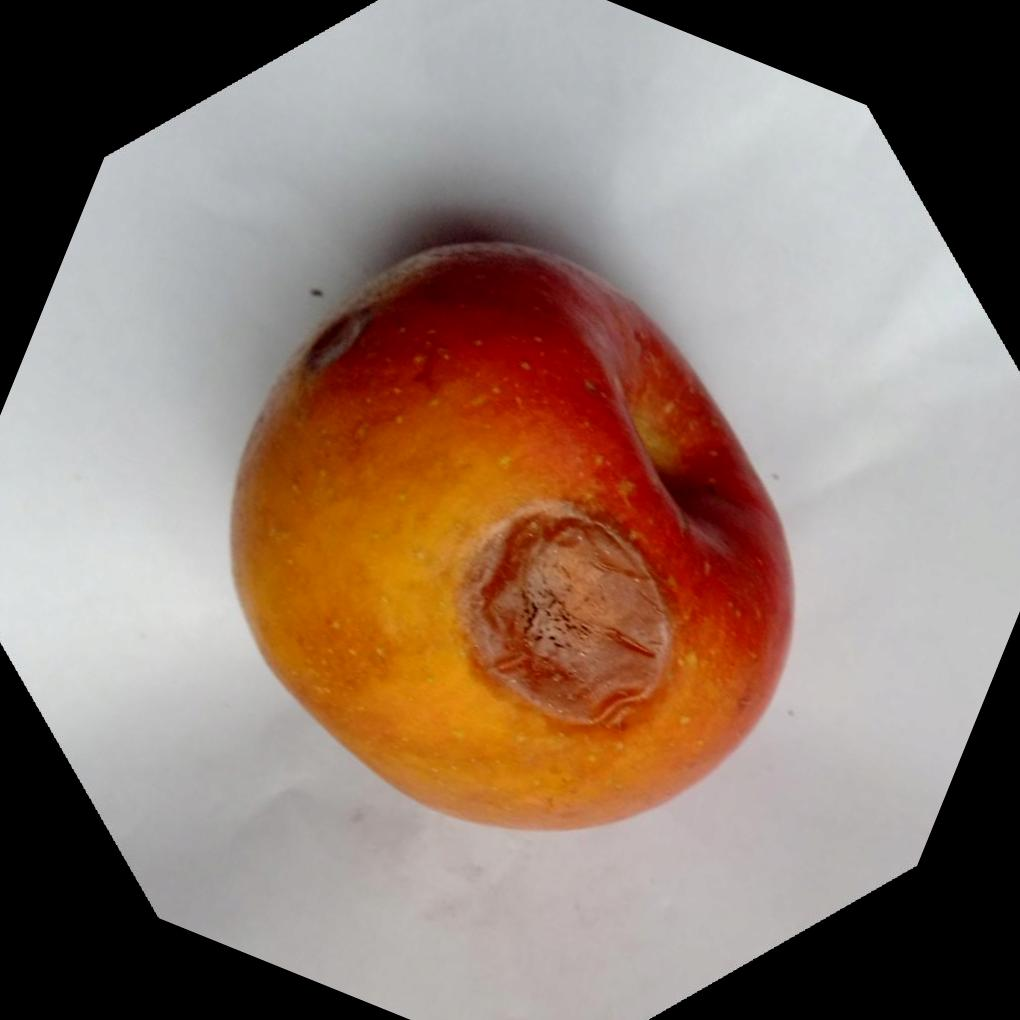FreshOrange: (231, 235, 793, 830)
